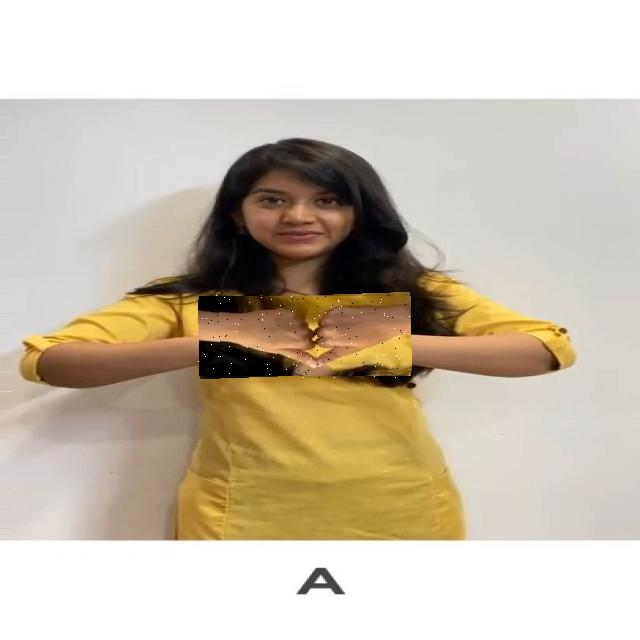A: (198, 294, 412, 378)
